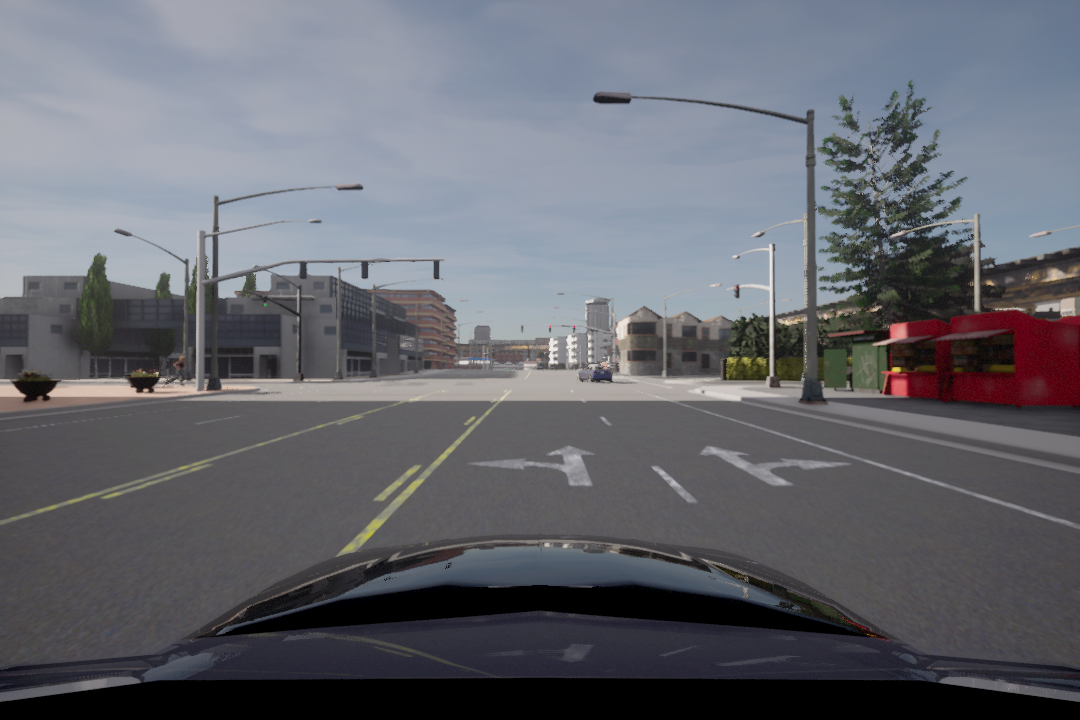RoadSign_forward_left: (462, 438, 602, 493)
RoadSign_forward_right: (693, 437, 861, 493)
